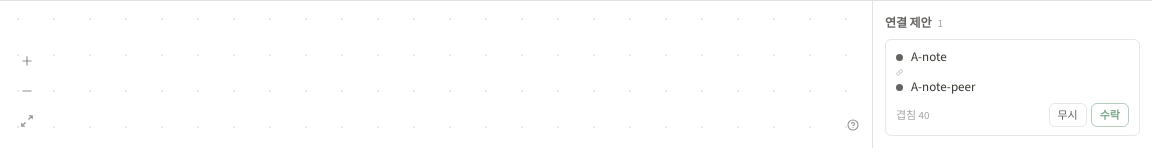
Scenario: GraphTab user boundaries › accepting a suggestion removes the card at once, then reloads the graph and suggestions
Click the button "수락": (1110,115) [1091,103,1129,127]
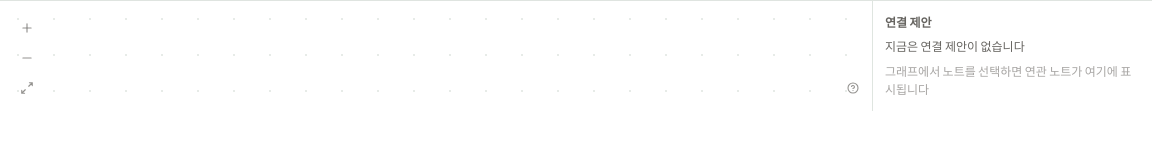
Now the text "지금은 연결 제안이 없습니다" is shown, box [885,39,1025,55]
Now the list item with test id "graph-suggestion-s1" is gone
